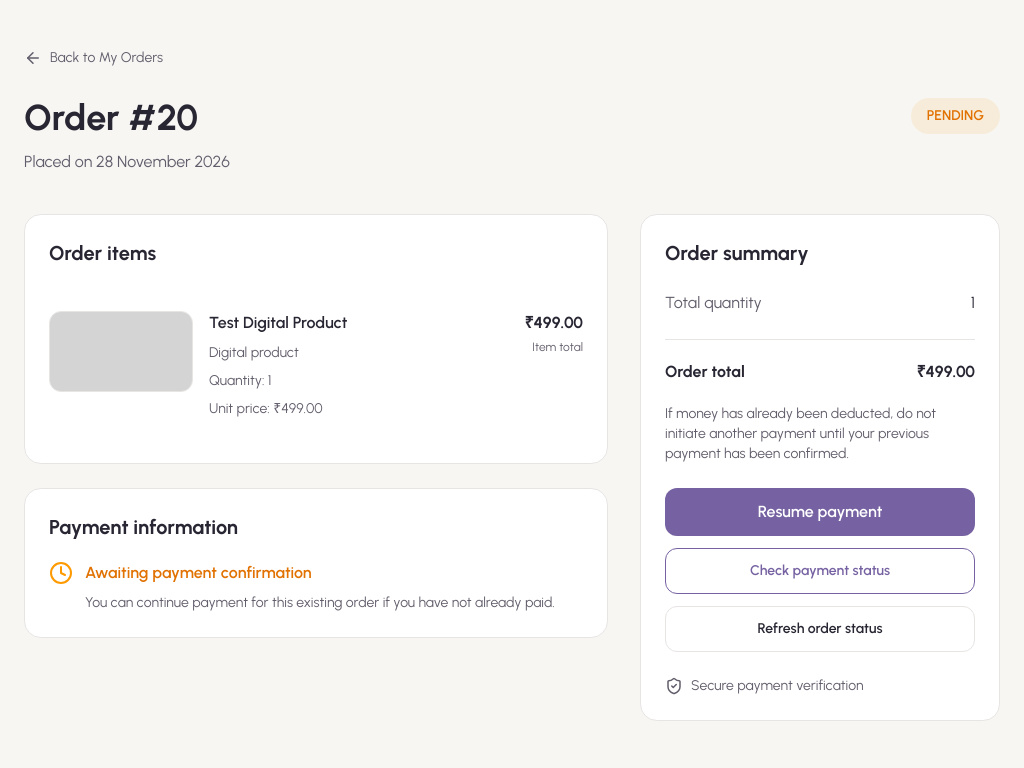
OrderDetailsPage payment workflow › updates the order to completed after payment recovery
The width and height of the screenshot is (1024, 768).
Click the button "Resume payment". click: x=820, y=512
box: x1=665 y1=488 x2=975 y2=536
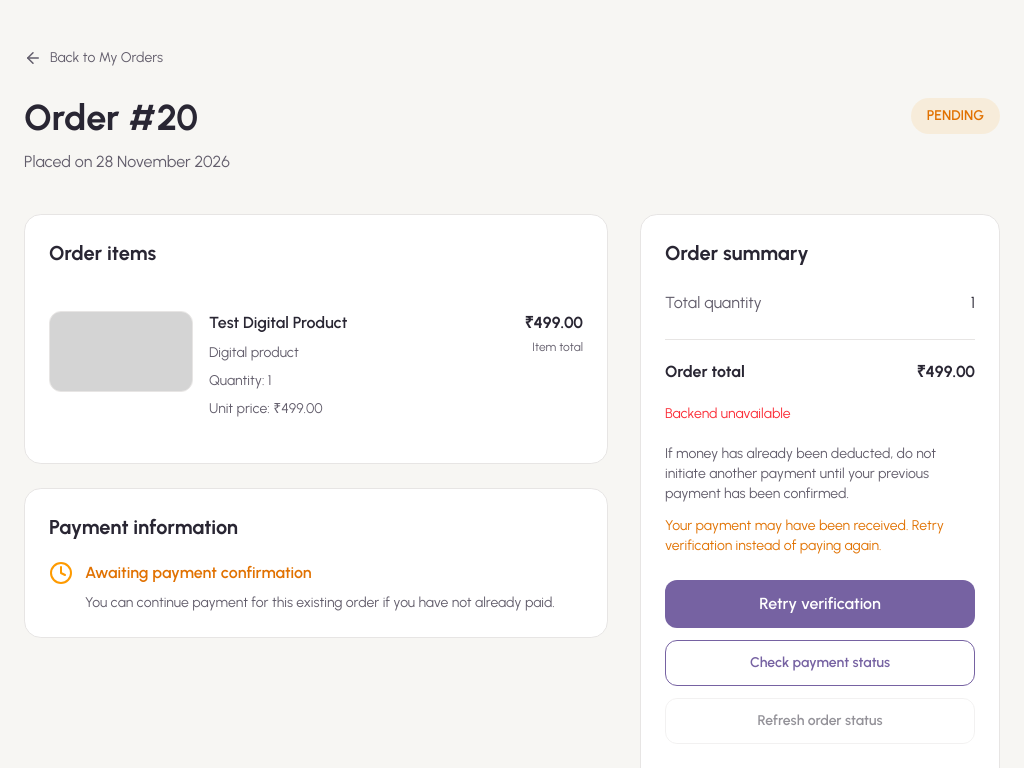
Expected: the button "Retry verification" is shown, x1=665 y1=580 x2=975 y2=628
Click the button "Check payment status". click: x=820, y=663
box: x1=665 y1=640 x2=975 y2=686
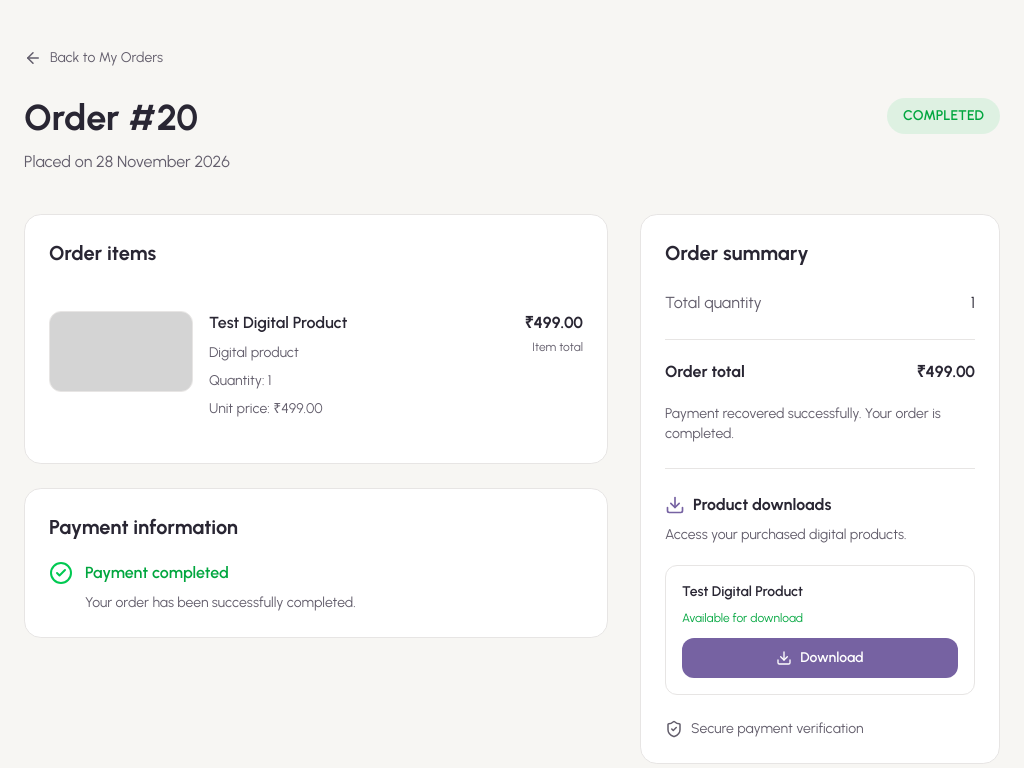
Expected: the text "COMPLETED" is shown, x1=887 y1=98 x2=1000 y2=134
Expected: the text "Payment recovered successfully. Your order is completed." is shown, x1=665 y1=404 x2=975 y2=444
Expected: the heading "Product downloads" is shown, x1=693 y1=493 x2=831 y2=517
